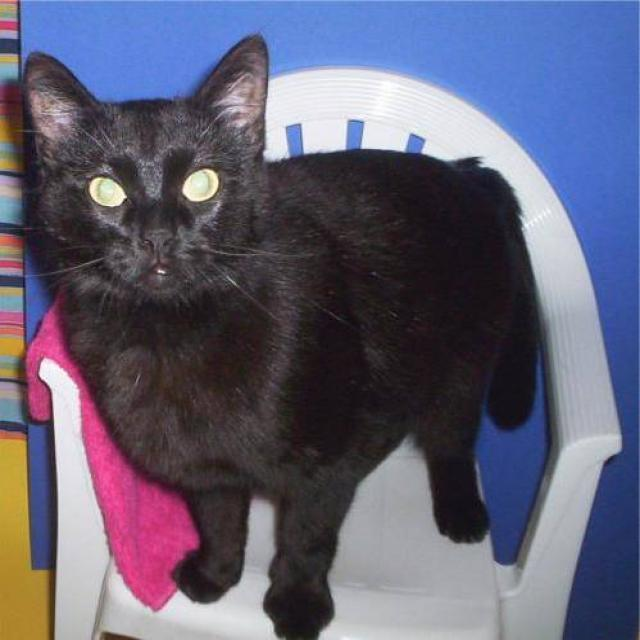cat: (19, 30, 541, 639)
